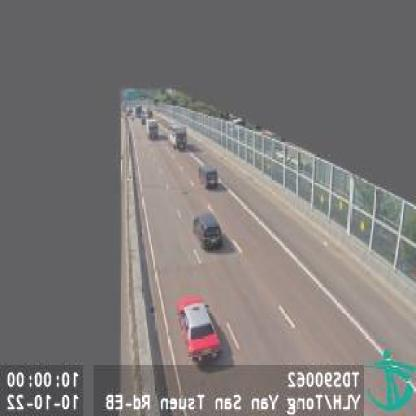Bus: (162, 116, 188, 150)
Car: (176, 298, 226, 365), (194, 211, 224, 251), (201, 165, 220, 187)
Truck: (146, 117, 160, 140)
